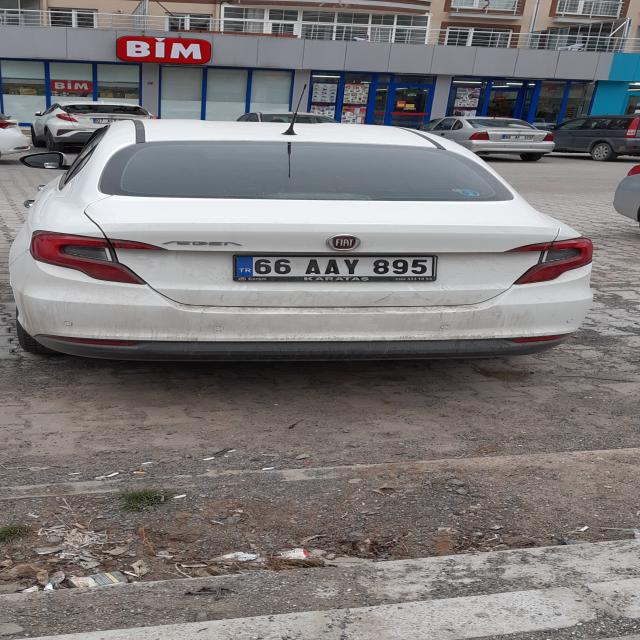plate: (234, 256, 435, 277)
